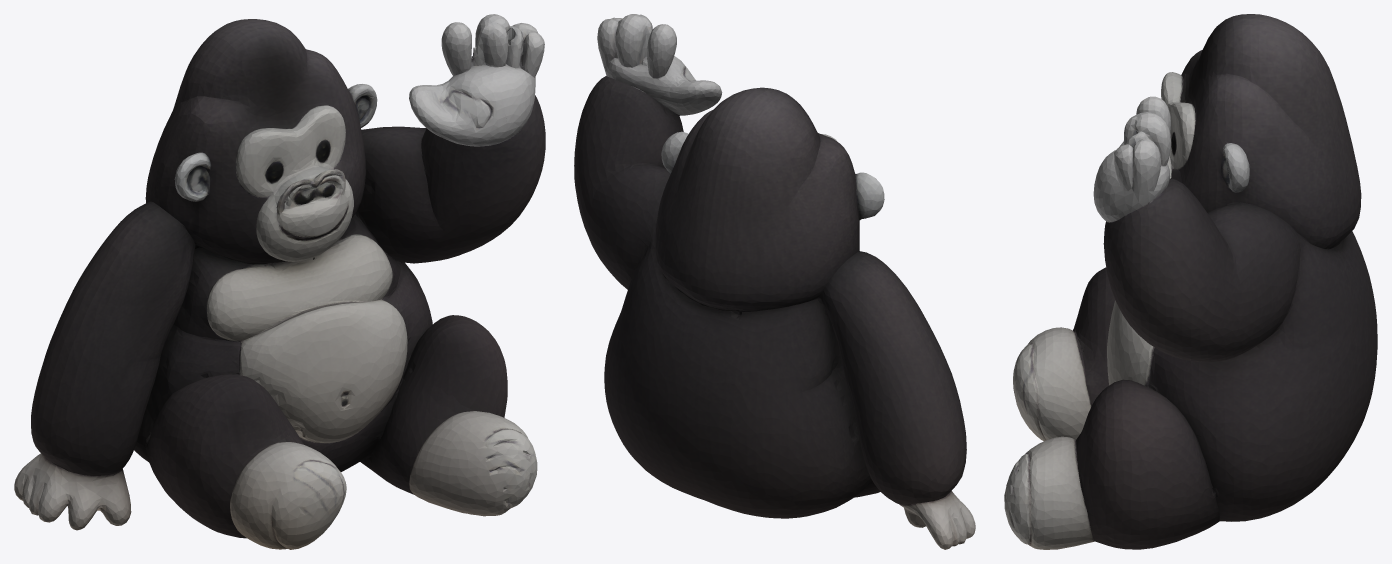
File: gorilla.glb
The picture shows the model from 3 angles, left to right: view 1: azimuth 30°, elevation 25°; view 2: azimuth 150°, elevation 25°; view 3: azimuth 270°, elevation 25°; orthographic projection. The views are drawn at different scales.
Visible parts, largest first — view 1: world; view 2: world; view 3: world.
Boxes of the visible parts, x1,y1,x2,y2 form: world: (14,14,545,549); world: (574,14,975,549); world: (1004,14,1377,549).
Size of the model in its own units: 0.9996 by 0.9302 by 0.6812.
1 material, 1 textured.
